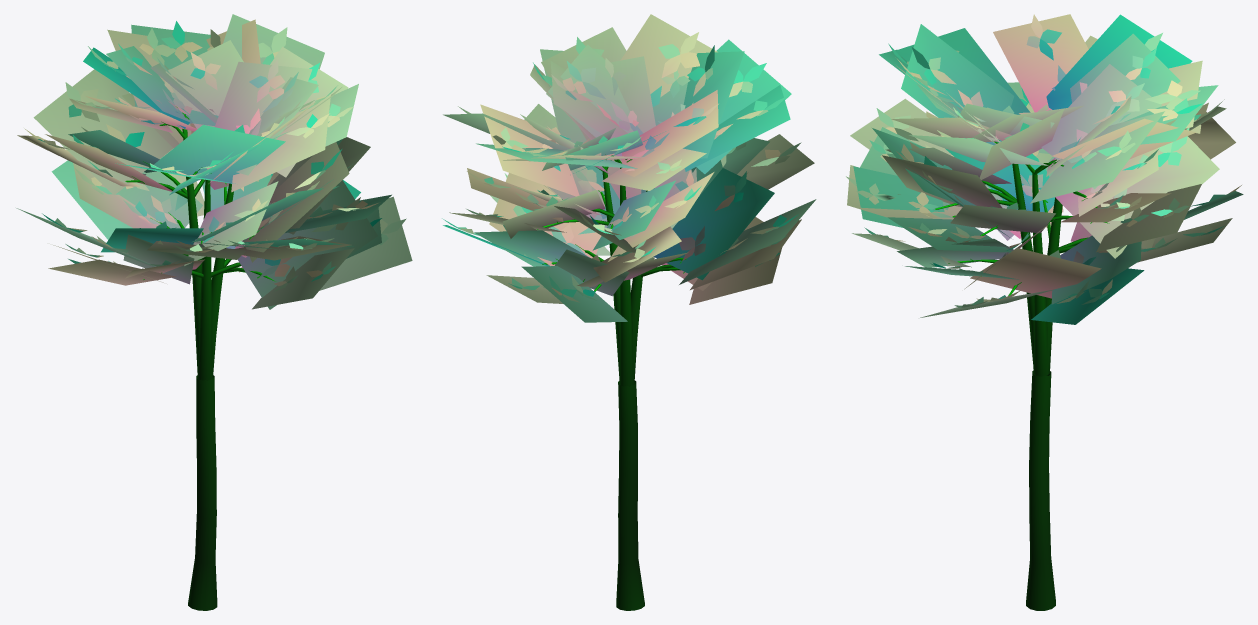
The model's file is teak_1.glb.
3 renders of one model, left to right at view 1: azimuth 30°, elevation 25°; view 2: azimuth 150°, elevation 25°; view 3: azimuth 270°, elevation 25°, orthographic. The views are drawn at different scales.
Visible parts, largest first — view 1: mid, near; view 2: mid, near; view 3: mid, near.
Part boxes in pixels (box(x1,y1,x2,y2)): mid: box(16, 14, 412, 380); near: box(24, 21, 406, 610); mid: box(443, 14, 816, 386); near: box(442, 32, 801, 610); mid: box(847, 14, 1243, 376); near: box(846, 14, 1241, 610).
Size of the model in its own units: 10.33 by 15.46 by 10.02.
